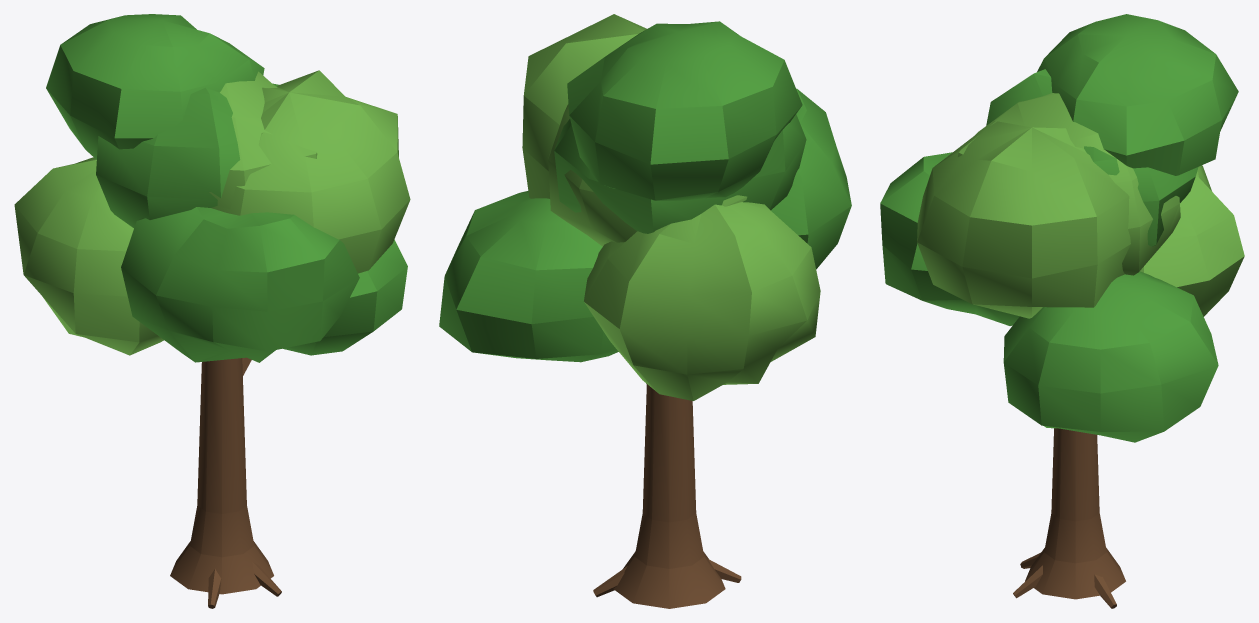
Rendered from baum_laub_2.obj.
3 views of the same model, side by side, from view 1: azimuth 30°, elevation 25°; view 2: azimuth 150°, elevation 25°; view 3: azimuth 270°, elevation 25° (orthographic). The views are drawn at different scales.
Parts seen in each view (by area): view 1: baum_laub_2_Koerper; view 2: baum_laub_2_Koerper; view 3: baum_laub_2_Koerper.
Part boxes in pixels (x1,y1,x2,y2): baum_laub_2_Koerper: [14, 14, 410, 608]; baum_laub_2_Koerper: [439, 14, 851, 608]; baum_laub_2_Koerper: [880, 14, 1244, 608].
Bounding box in the file's own units: 3.17 × 4.81 × 2.97.
